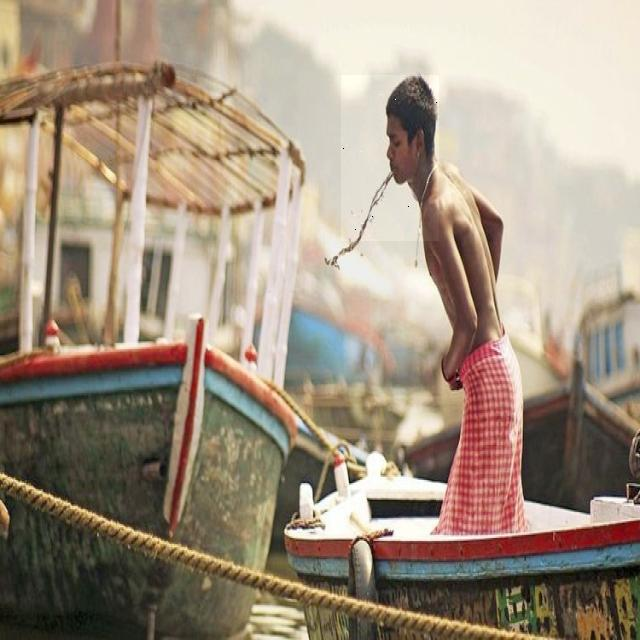Spitting: (341, 75, 439, 241)
